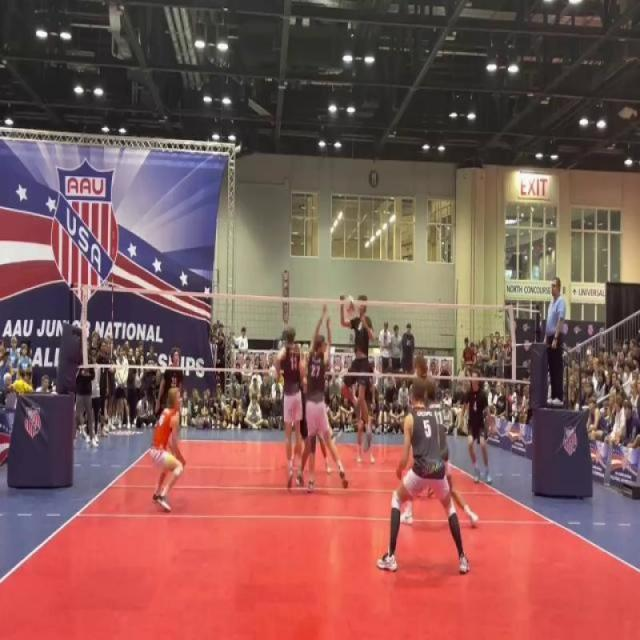volleyball: (342, 294, 356, 316)
